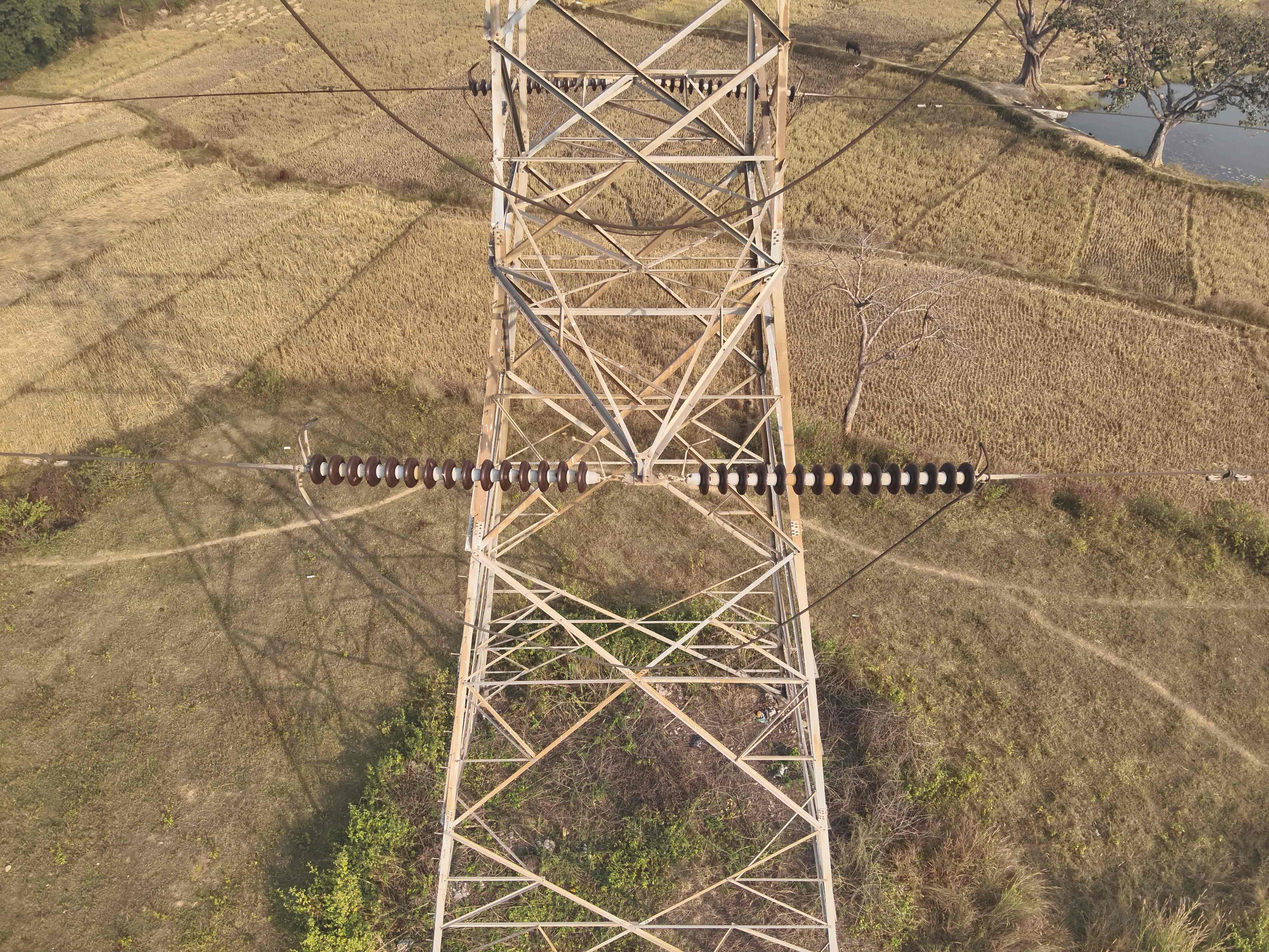broken_insulator: (437, 461, 453, 488)
